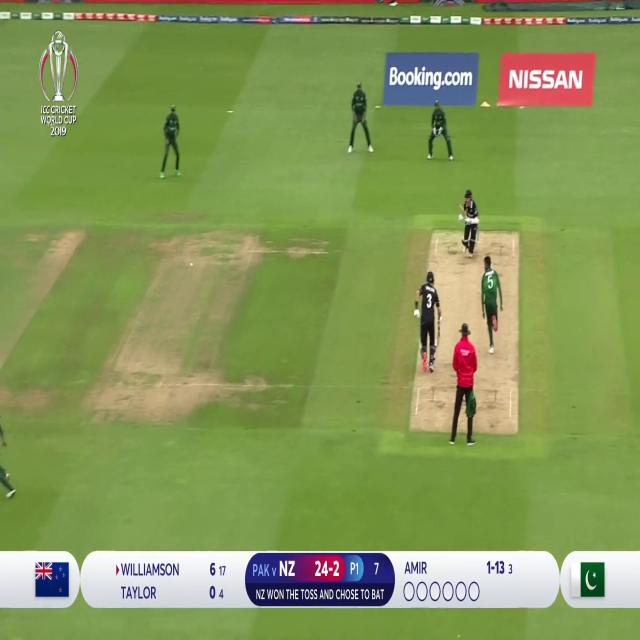bat: (457, 202, 467, 218), (437, 317, 441, 346)
